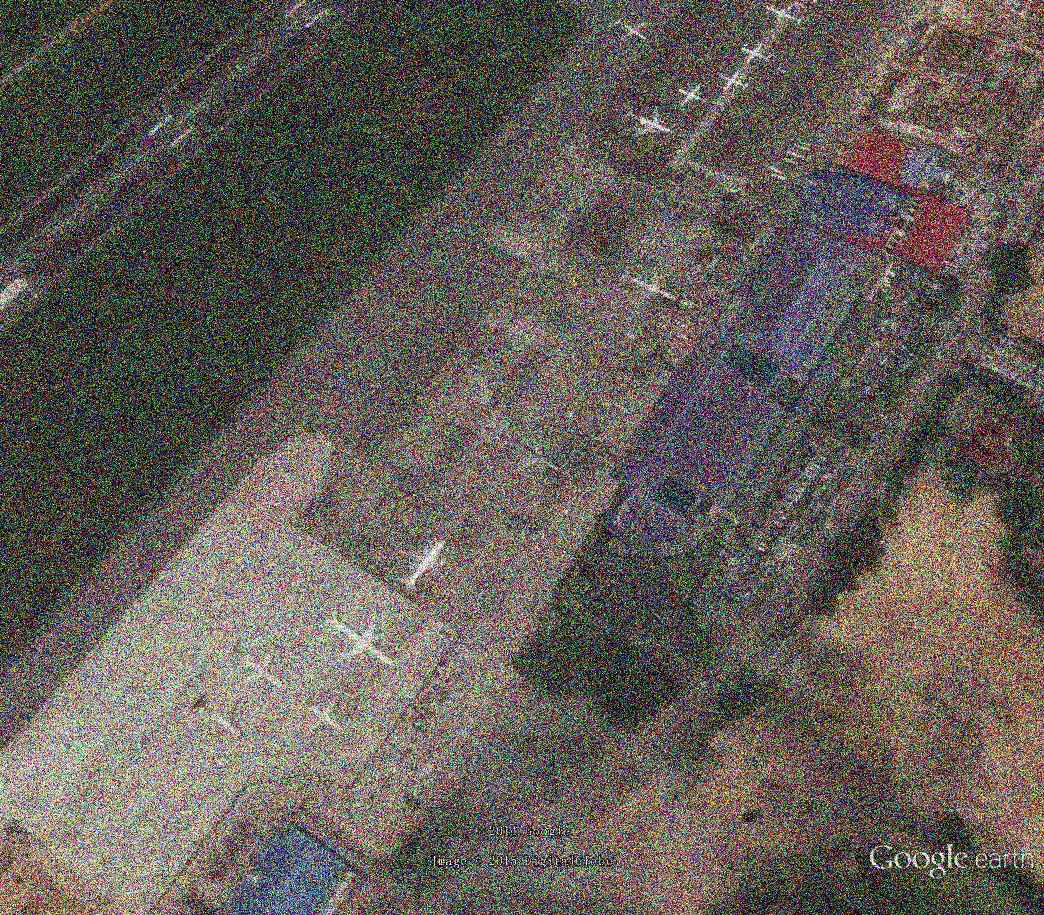aircraft: (319, 606, 398, 670), (219, 636, 288, 694), (189, 693, 250, 750), (396, 537, 453, 596), (495, 426, 564, 474), (614, 263, 680, 305), (294, 692, 348, 741), (624, 104, 674, 138), (772, 2, 807, 30), (614, 17, 649, 44), (740, 41, 775, 68), (719, 68, 754, 95), (676, 84, 710, 111), (763, 2, 777, 16)
